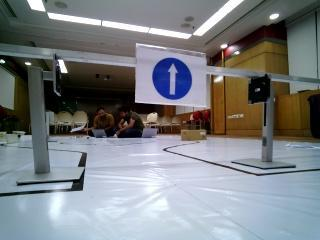straight: (136, 45, 206, 105)
